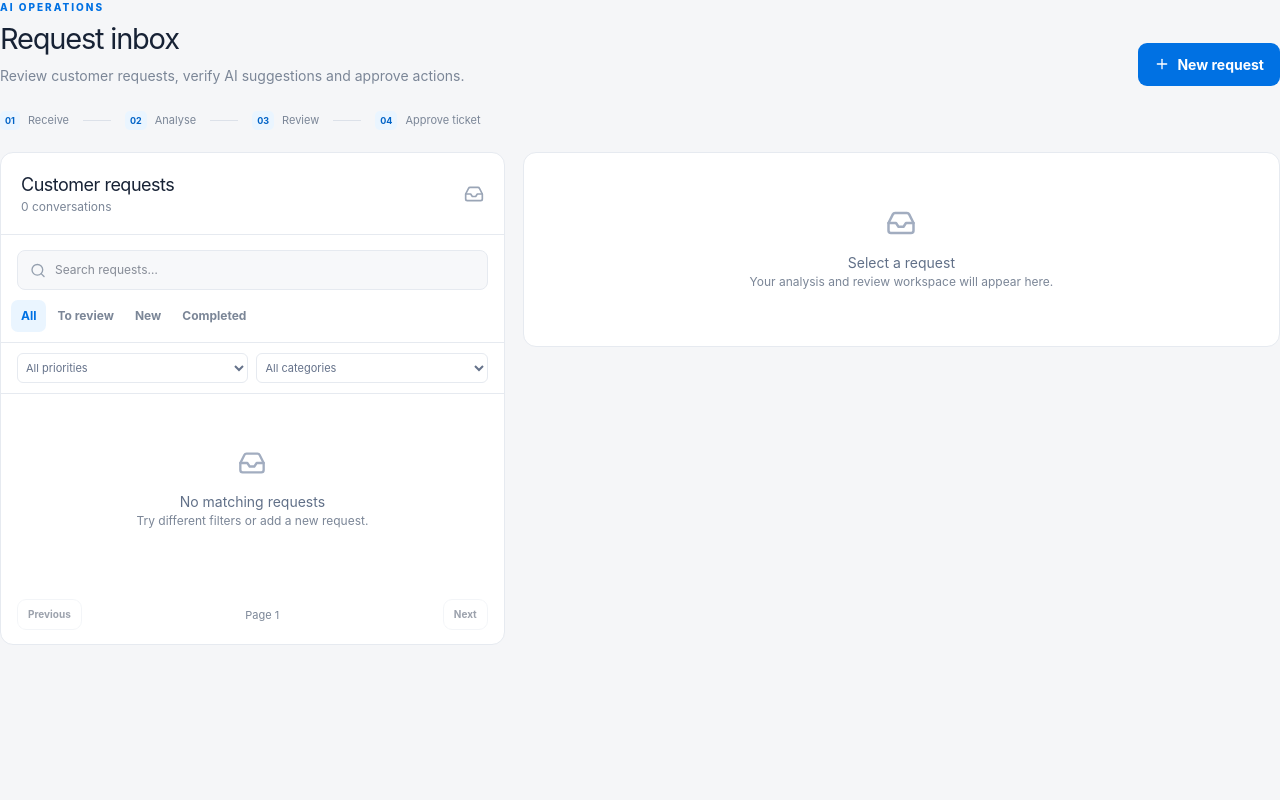
Scenario: opens from the inbox and selects the newly created request without analysis
Click the button "New request": click(1209, 64) [1138,43,1279,86]
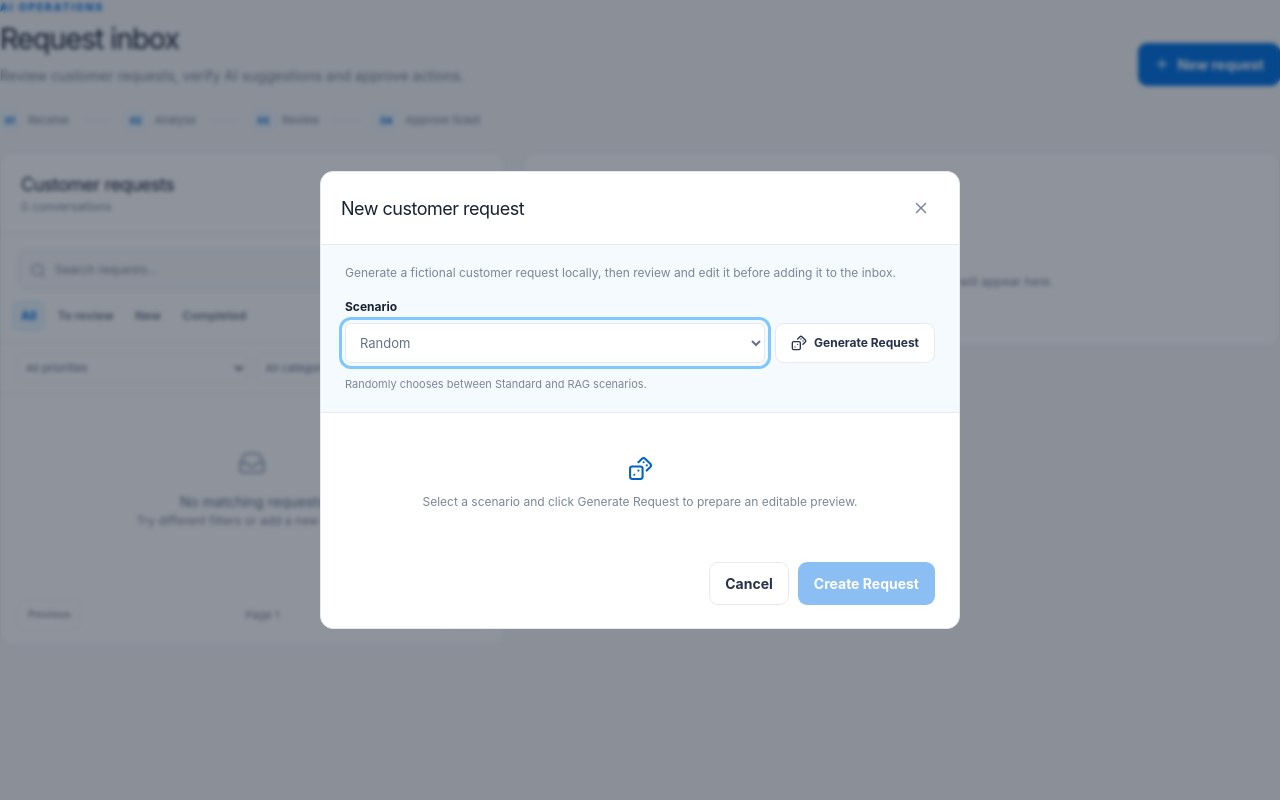
Result: the dialog is shown at [320,172,960,629]
Click the button "Generate Request": click(855, 343) [775,323,935,363]
(page scrolled)
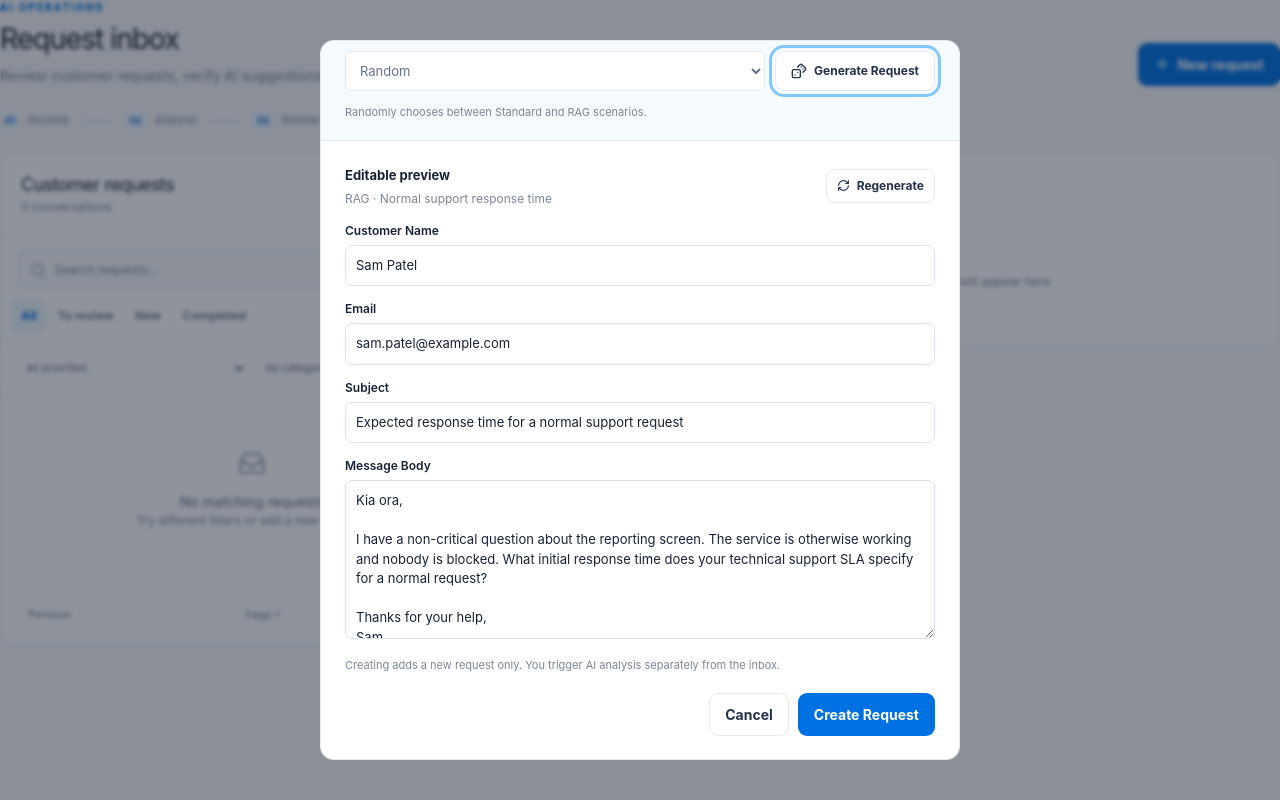
Click the button "Create Request": click(866, 715) [798,693,935,736]
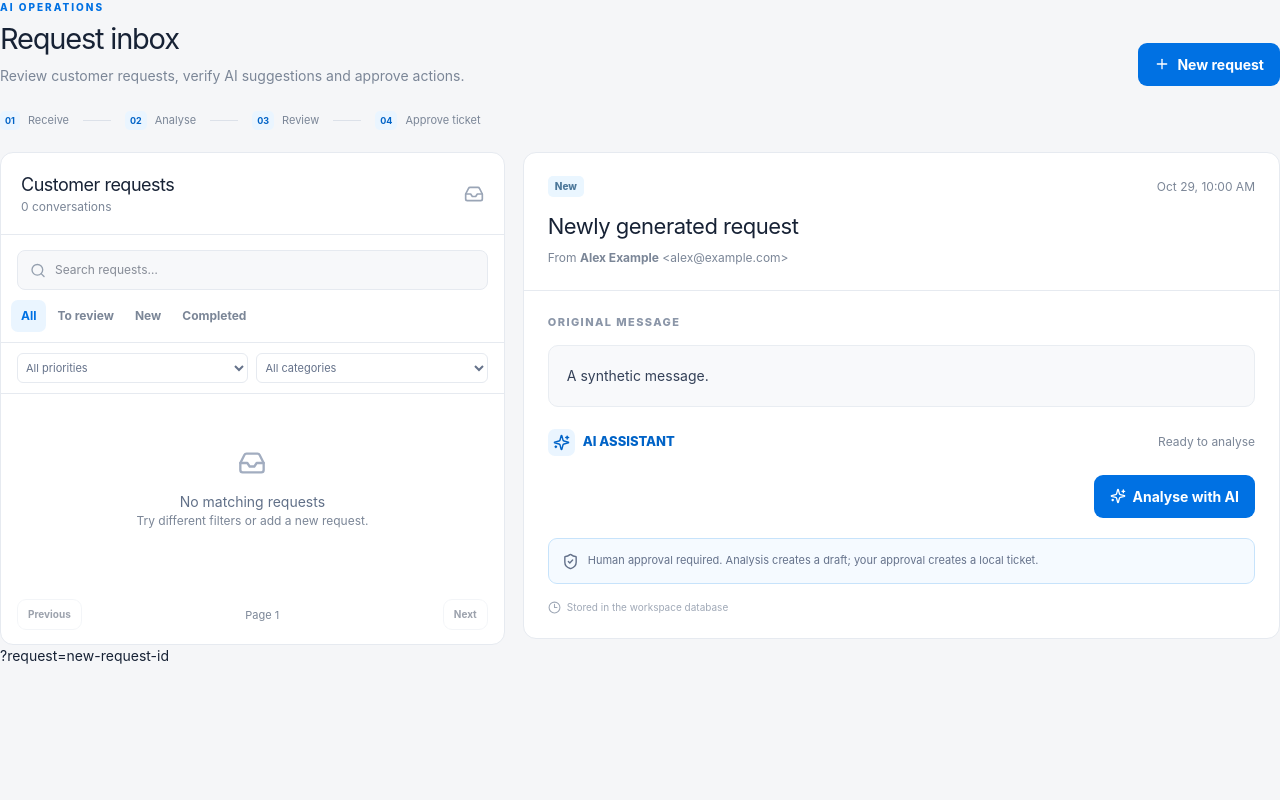
Result: the heading "Newly generated request" is shown at [548,213,798,239]
Result: the dialog is gone
